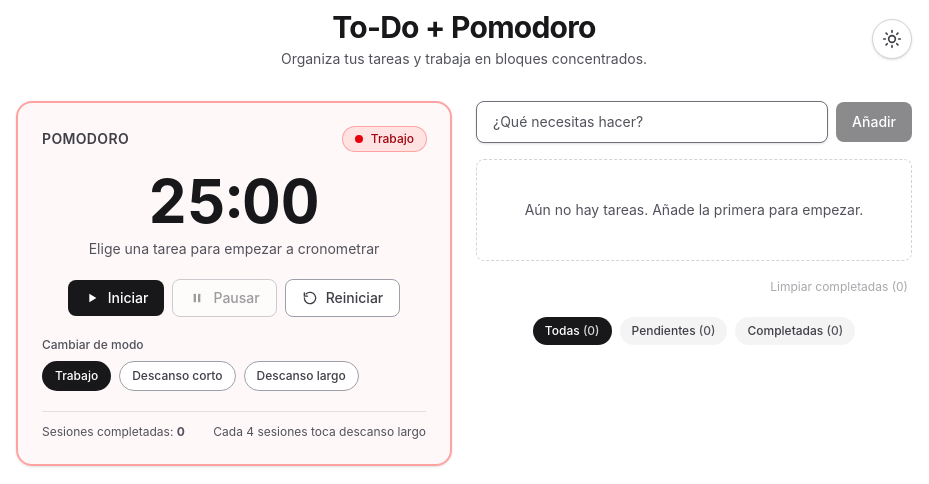
Test: integración App: ToDo + Pomodoro › completar la tarea enlazada no rompe el enlace con el temporizador
Type "Enviar el informe" into the field named "Nueva tarea". click: (652, 122)
box: [476,101,828,143]
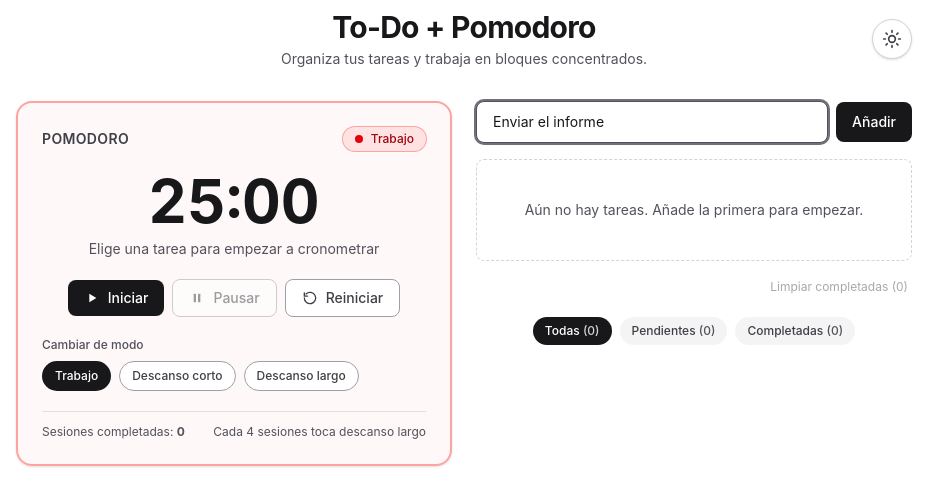
Click the button "Añadir". click: click(874, 122)
box: [836,102,912,142]
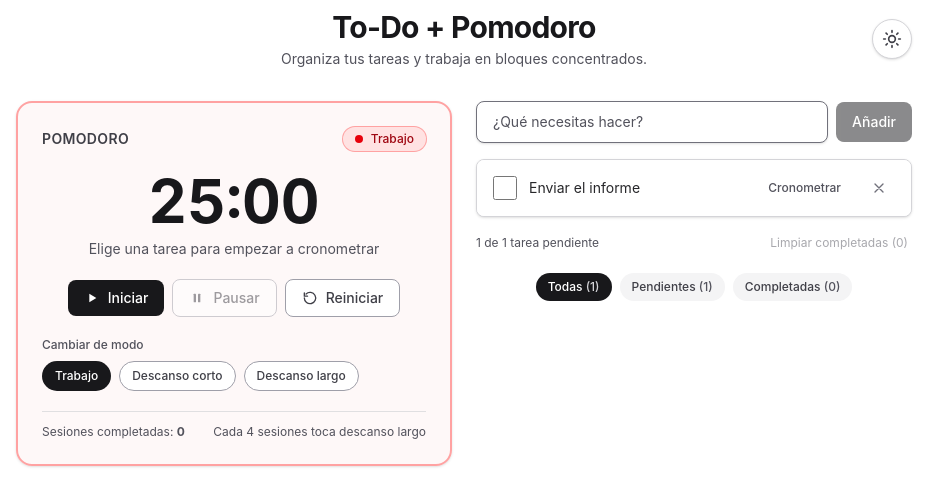
Click the button "Cronometrar". click: click(805, 188)
box: [758,174,851,202]
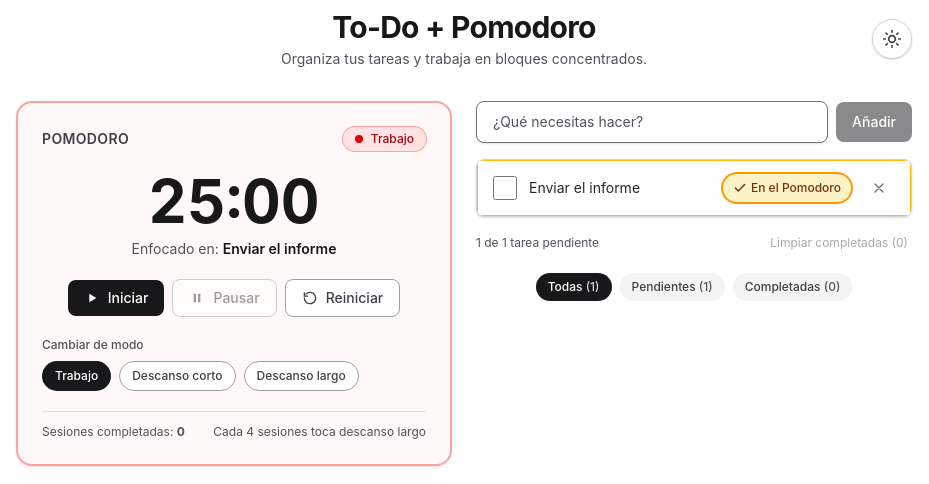
Click the checkbox named "Marcar \"Enviar el informe\" como completada". click: click(505, 188)
box: [493,176,517,200]
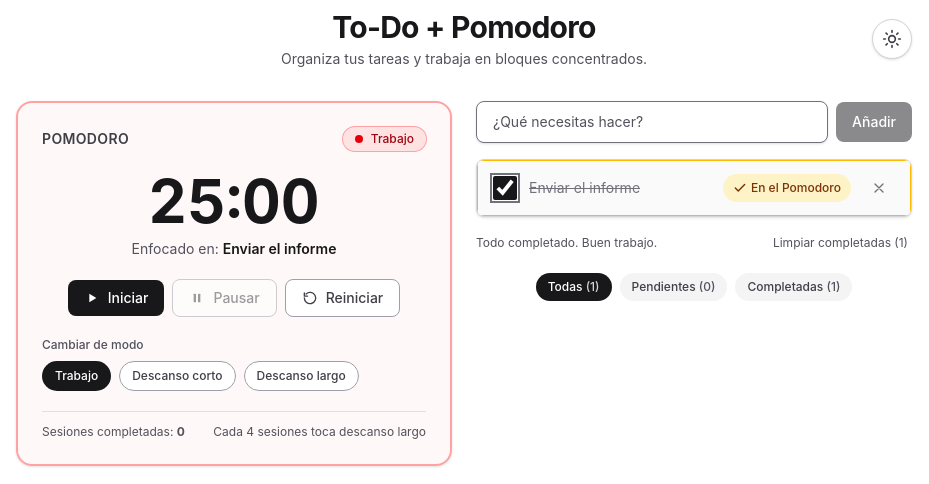
Now the checkbox named "Marcar \"Enviar el informe\" como pendiente" is checked, box [493,176,517,200]
Now the text "Enviar el informe" is shown, box [223,240,336,257]
Now the text "Todo completado. Buen trabajo." is shown, box [476,235,657,251]
